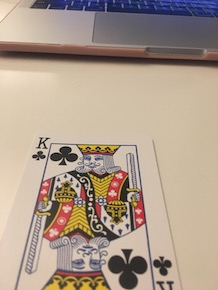KingOfClubs: (1, 128, 189, 290)
